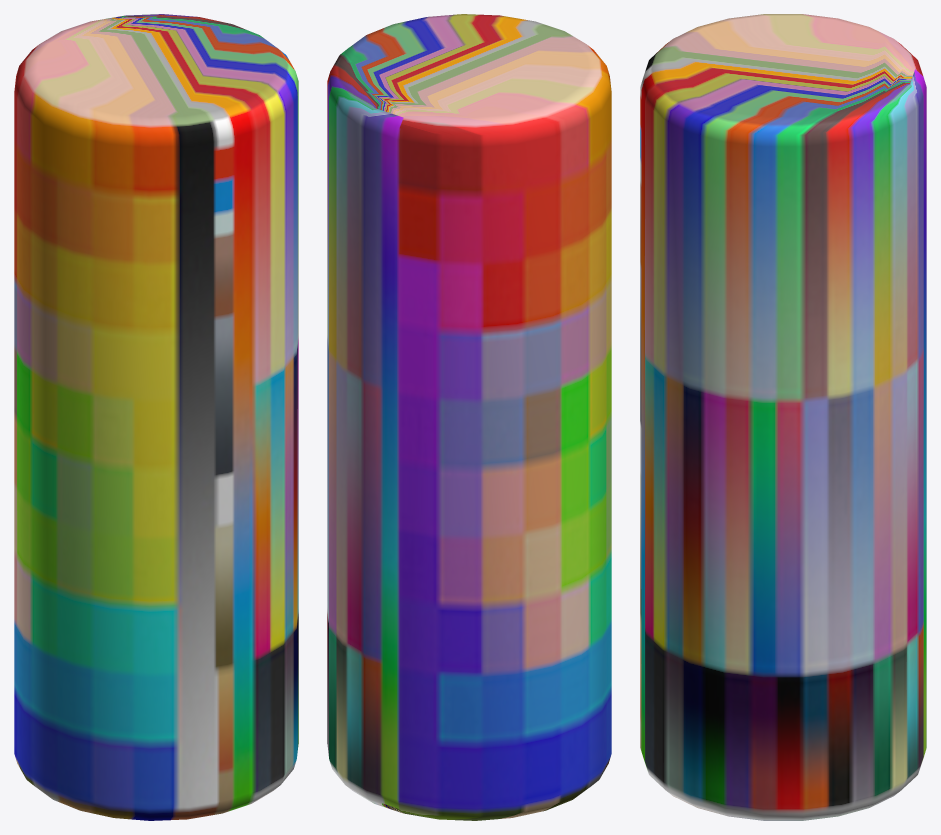
File: TallCylinder.fbx
3 views of the same model, side by side, from view 1: azimuth 30°, elevation 25°; view 2: azimuth 150°, elevation 25°; view 3: azimuth 270°, elevation 25° (orthographic).
Visible parts, largest first — view 1: Cylinder.002; view 2: Cylinder.002; view 3: Cylinder.002.
Boxes of the visible parts, x1,y1,x2,y2 form: Cylinder.002: (14,14,298,820); Cylinder.002: (327,14,611,820); Cylinder.002: (640,14,926,820).
Bounding box in the file's own units: 1.79 × 4.89 × 1.81.
